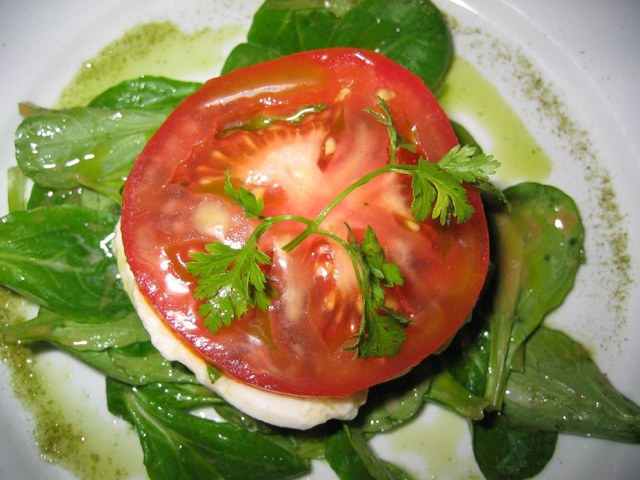tomato: (120, 47, 490, 397)
